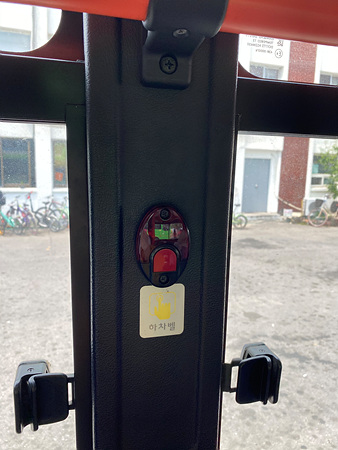bell: (136, 203, 190, 286)
